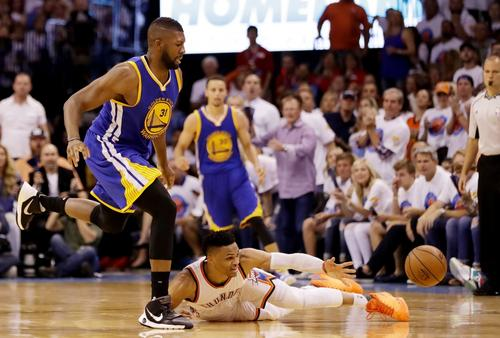10+: (1, 1, 499, 331)
down: (163, 227, 415, 327)
